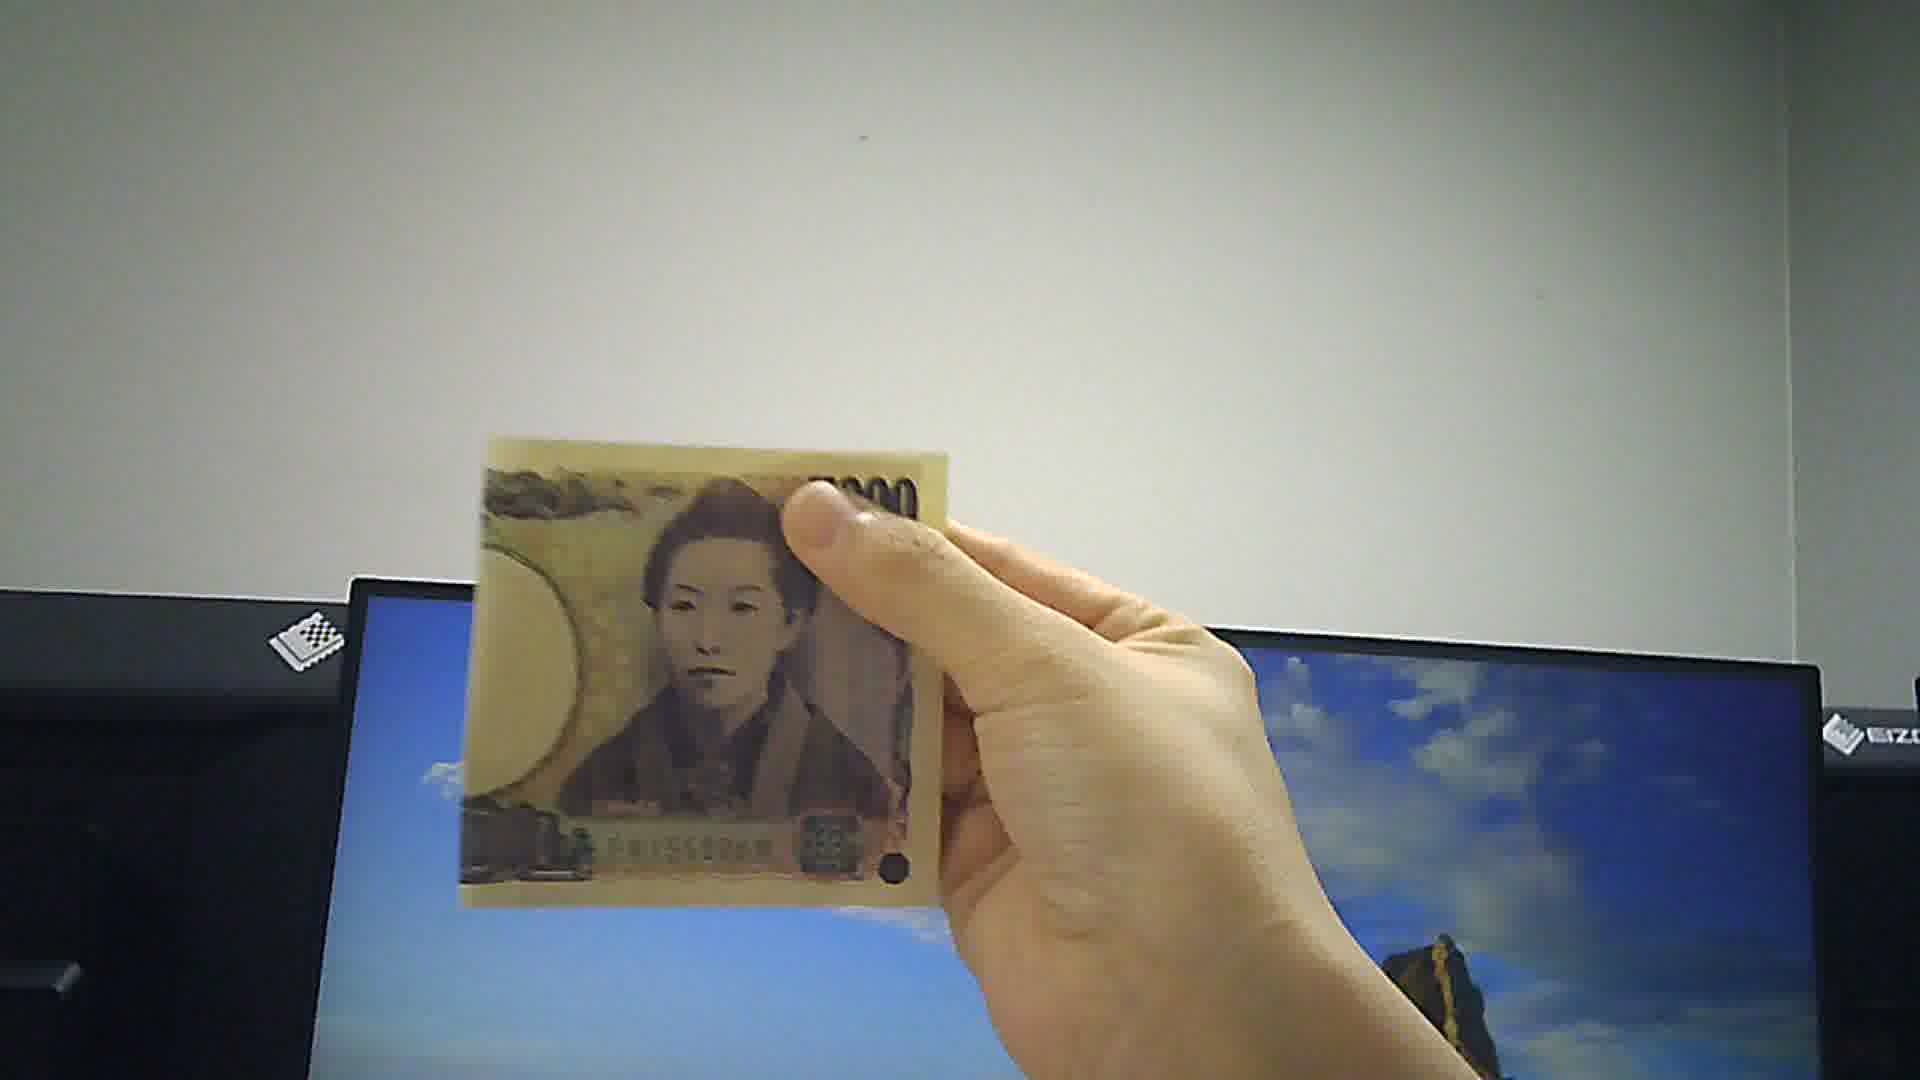5,000 Yen: (454, 433, 944, 914)
